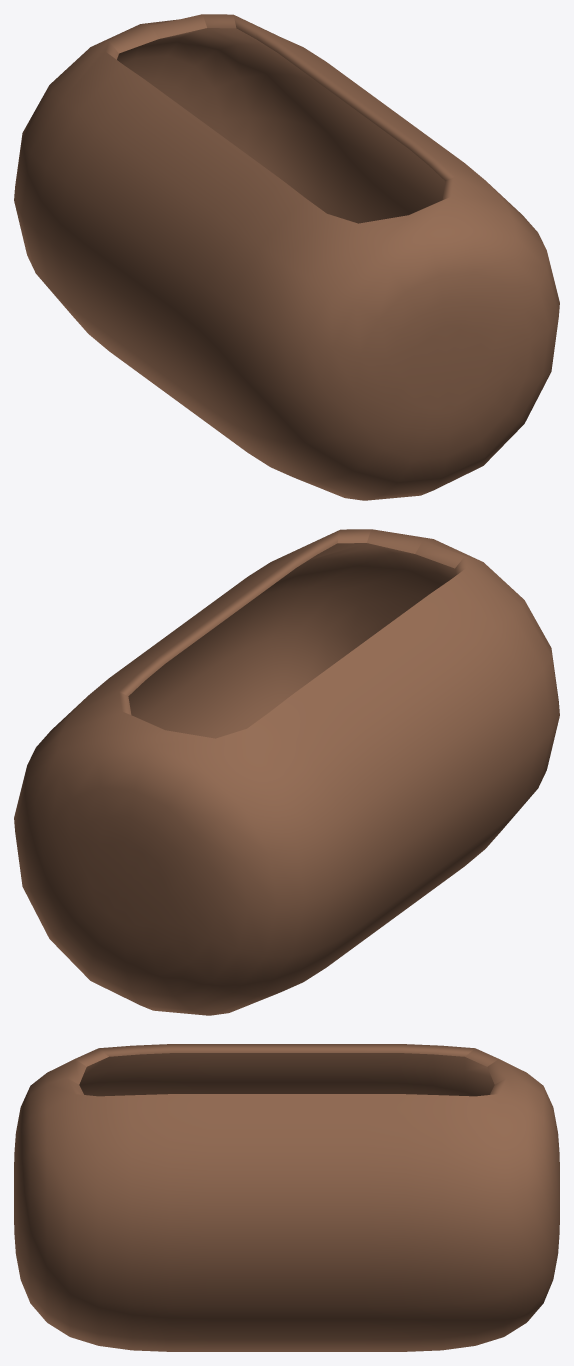
Rendered from Cylinder_Arena.fbx.
3 views of the same model, one above another, from view 1: azimuth 30°, elevation 25°; view 2: azimuth 150°, elevation 25°; view 3: azimuth 270°, elevation 25° (orthographic). The views are drawn at different scales.
Parts seen in each view (by area): view 1: polySurface1; view 2: polySurface1; view 3: polySurface1.
Part boxes in pixels (x1,y1,x2,y2): polySurface1: (14,14,559,500); polySurface1: (14,529,559,1015); polySurface1: (14,1044,559,1351).
Size of the model in its own units: 52.77 by 49.29 by 91.32.
